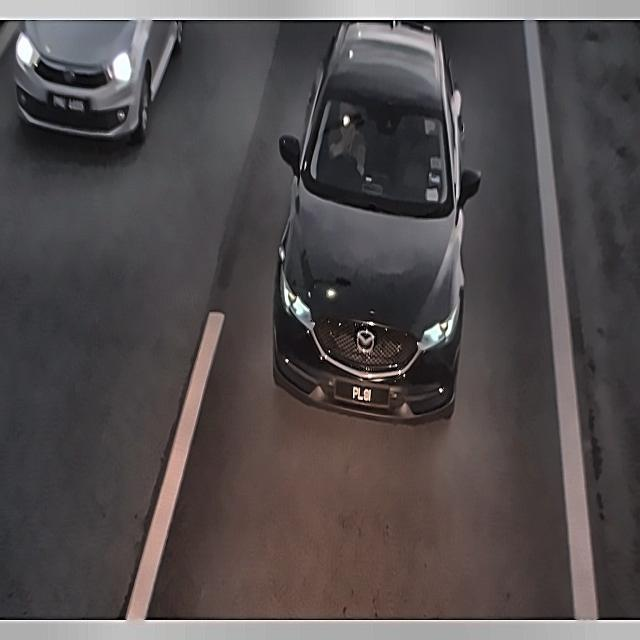car: (331, 369, 396, 415), (40, 87, 98, 124)
